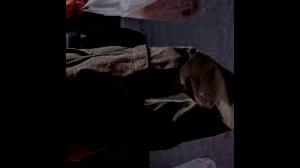Plastic: (78, 0, 202, 22)
